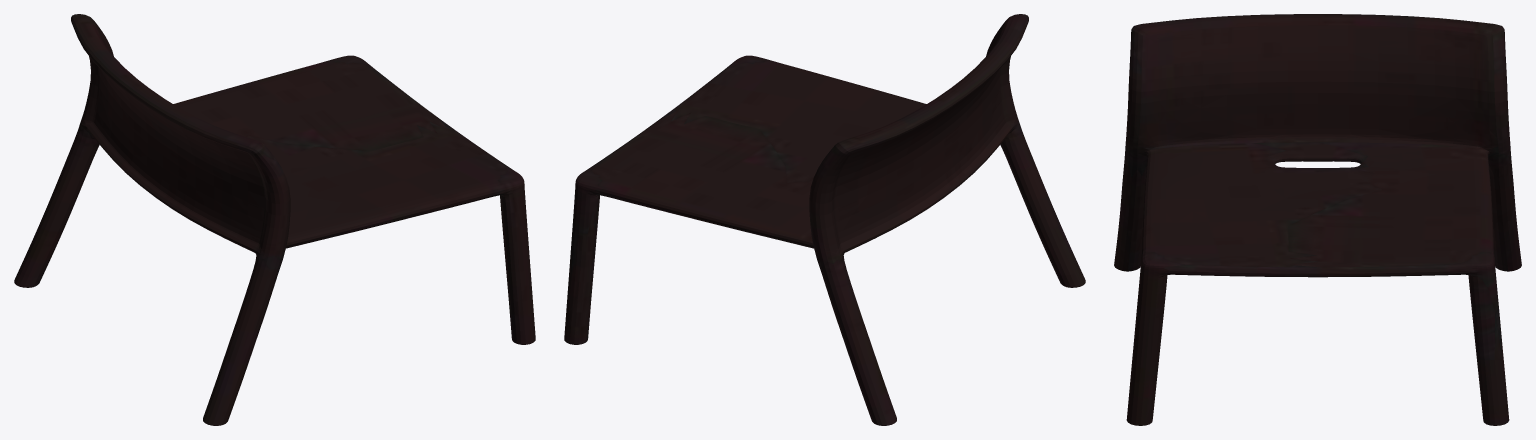
Rendered from chair_8.glb.
The picture shows the model from 3 angles, left to right: view 1: azimuth 30°, elevation 25°; view 2: azimuth 150°, elevation 25°; view 3: azimuth 270°, elevation 25°; orthographic projection.
Parts seen in each view (by area): view 1: chair_8; view 2: chair_8; view 3: chair_8.
Part boxes in pixels (x1=…): chair_8: x1=14, y1=14, x2=535, y2=425; chair_8: x1=564, y1=14, x2=1085, y2=425; chair_8: x1=1114, y1=14, x2=1521, y2=425.
Size of the model in its own units: 1.65 by 1.22 by 1.72.
1 material, 1 textured.
